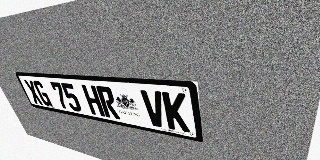5: (60, 83, 83, 112)
7: (49, 82, 71, 110)
G: (32, 80, 53, 107)
H: (81, 85, 105, 117)
K: (162, 91, 190, 133)
R: (95, 86, 120, 120)
V: (140, 90, 167, 128)
X: (23, 80, 44, 105)
